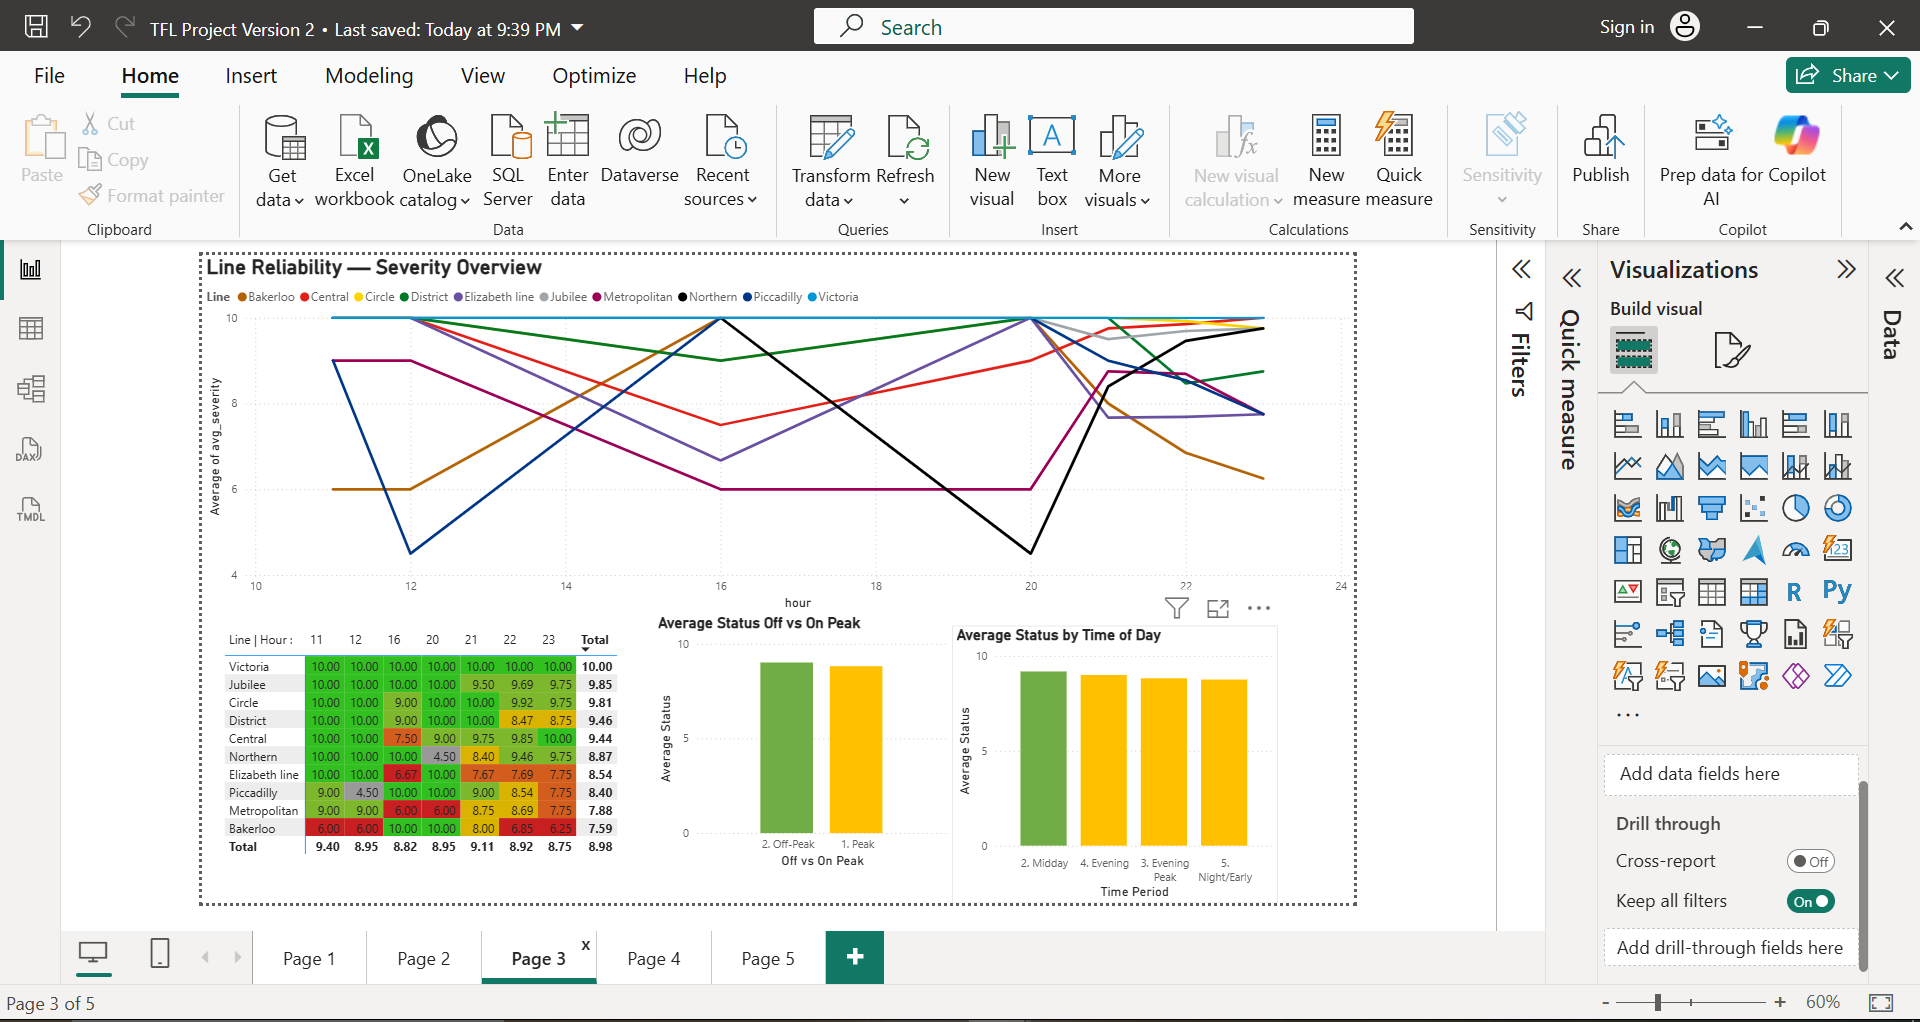

Layout of this report page (visuals, bound fields, positions):
{"tool":"powerbi","page":{"name":"Page 3","canvas":[1280,720],"ordinal":2},"visuals":[{"type":"lineChart","title":"Line Reliability — Severity Overview","fields":{"Category":["reliability_summary.hour"],"Y":["Avg(reliability_summary.avg_severity)"],"Series":["reliability_summary.line_name"]},"box":[0,0,1280,398.3],"z":0},{"type":"pivotTable","fields":{"Rows":["reliability_summary.line_name"],"Values":["Avg(reliability_summary.avg_severity)"],"Columns":["reliability_summary.hour"]},"box":[20.7,412,730.1,286.3],"z":1000},{"type":"columnChart","title":"Average Status Off vs On Peak","fields":{"Category":["reliability_summary.Off vs On Peak"],"Y":["Avg(reliability_summary.avg_severity)"]},"box":[501.7,398.3,331.7,286.7],"z":2000},{"type":"columnChart","title":"Average Status by Time of Day","fields":{"Category":["reliability_summary.Time Period"],"Y":["Avg(reliability_summary.avg_severity)"]},"box":[833.3,411.7,361.7,308.3],"z":3000}]}

Visuals, with their boxes on the page's 1280x720 design canvas (x1, y1, x2, y2). These are canvas units, not pixel positions in the 1920x1022 screenshot, which may show the page scaled, cropped or inside an application window:
"Line Reliability — Severity Overview" lineChart: box=[0, 0, 1280, 398]
pivotTable - reliability_summary.line_name x Avg(reliability_summary.avg_severity): box=[21, 412, 751, 698]
"Average Status Off vs On Peak" columnChart: box=[502, 398, 833, 685]
"Average Status by Time of Day" columnChart: box=[833, 412, 1195, 720]
